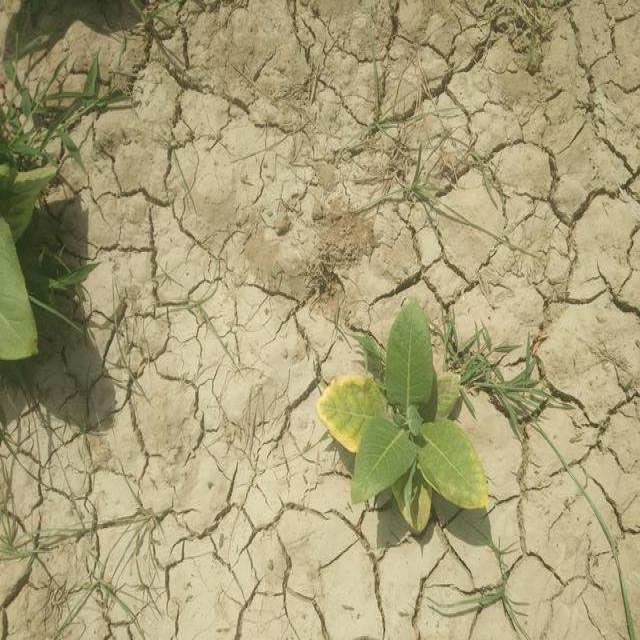crop: (322, 303, 492, 535), (0, 165, 54, 371)
